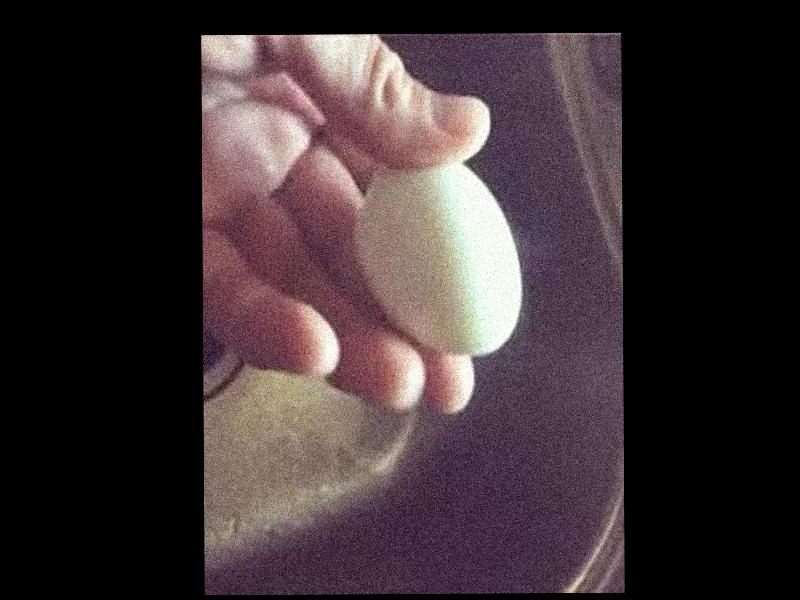Eggs: (356, 160, 522, 357)
